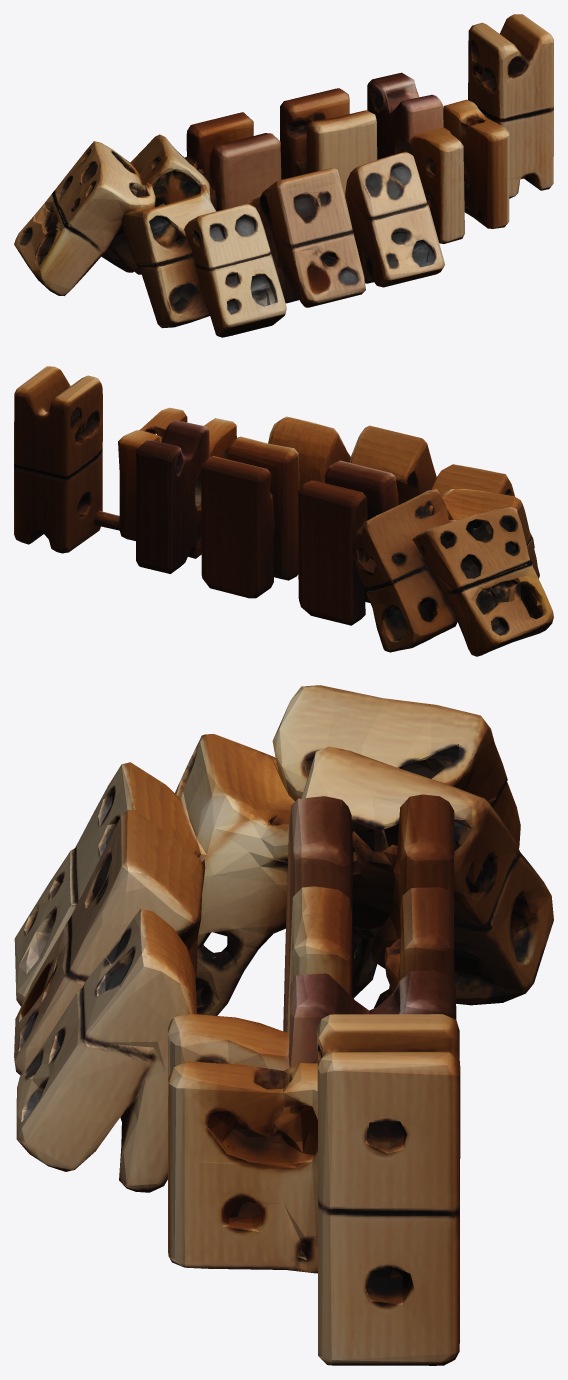
Rendered from wooden-dominoes-3d.jpeg.glb.
The picture shows the model from 3 angles, top to bottom: view 1: azimuth 30°, elevation 25°; view 2: azimuth 150°, elevation 25°; view 3: azimuth 270°, elevation 25°; orthographic projection. The views are drawn at different scales.
Parts seen in each view (by area): view 1: world; view 2: world; view 3: world.
Part boxes in pixels (x1,y1,x2,y2): world: (14,14,553,337); world: (14,366,553,656); world: (14,685,553,1365).
Bounding box in the file's own units: 0.9998 × 0.3064 × 0.4596.
Materials: 1 (1 with a texture image).
